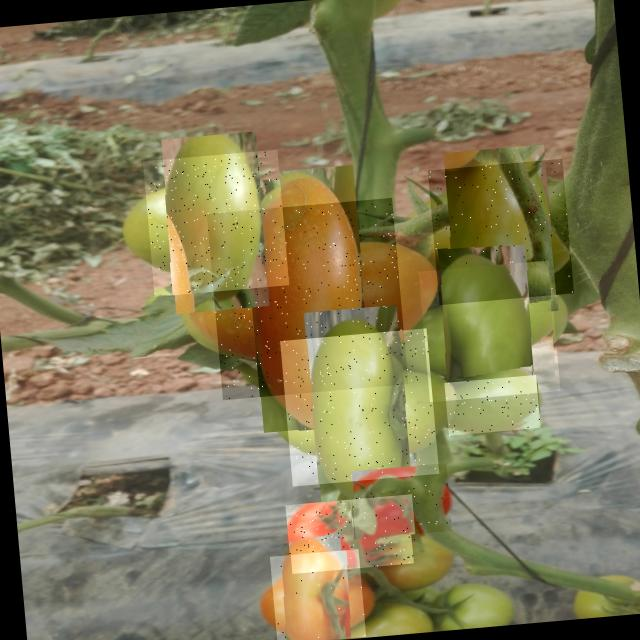Ripe Tomato: (285, 494, 417, 574), (269, 549, 365, 640), (351, 462, 452, 538)
Unripe Tomato: (206, 198, 408, 400), (280, 328, 438, 486), (142, 149, 288, 296), (428, 158, 574, 304), (418, 260, 560, 402), (444, 374, 540, 436)
